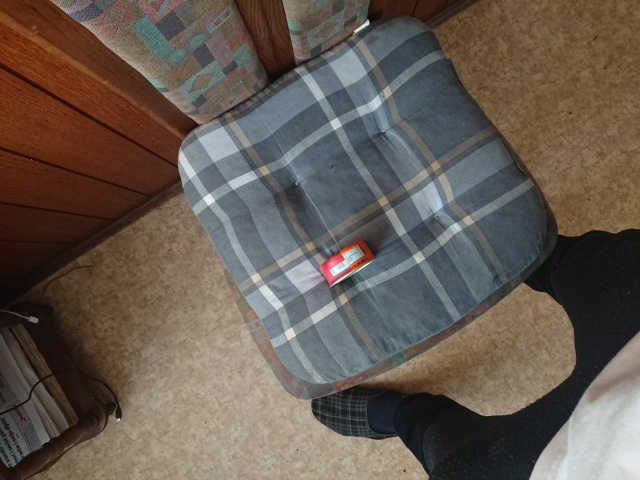Gavrilovic Pork Liver Pate 100g: (317, 237, 379, 290)
